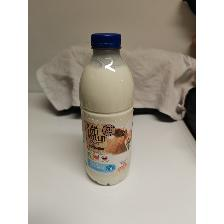Milch: (78, 32, 136, 188)
